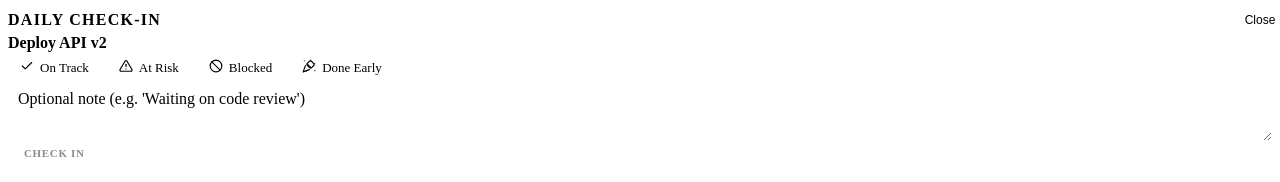
Test: QuickCheckIn › resets status selection and note after successful submission
Click the button with test id "check-in-status-at_risk" at [149, 68], box [107,54,191,81]
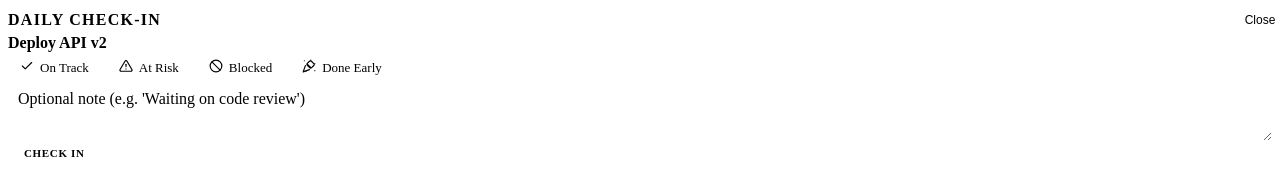
Type "Some note" into the text box with test id "check-in-note" at [640, 111], box [8,81,1272,141]
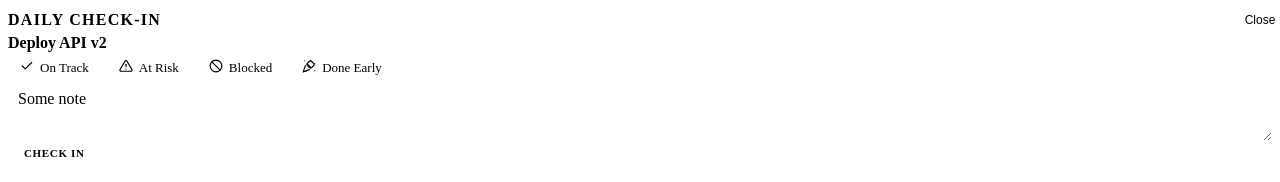
Click the button with test id "check-in-submit" at [54, 153], box [8,141,101,165]
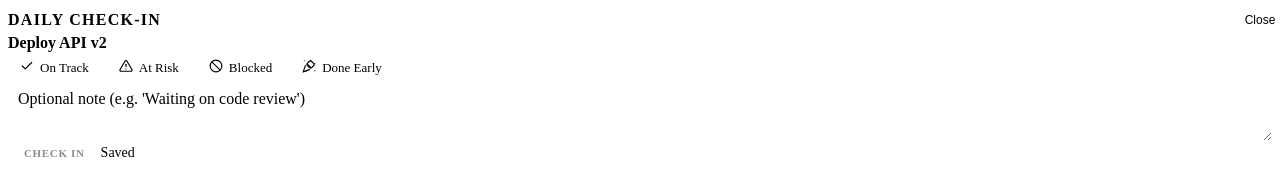
Now the text box with test id "check-in-note" is empty, box [8,81,1272,141]
Now the button with test id "check-in-submit" is disabled, box [8,141,101,165]
